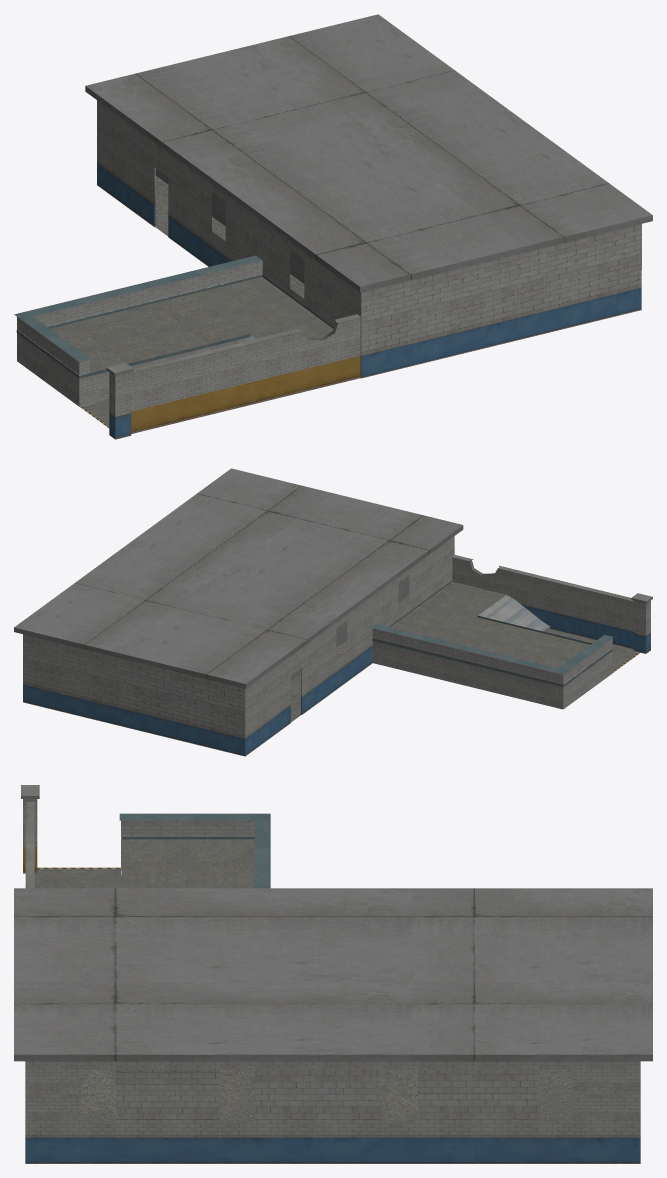
The model's file is Building_Fdc04_2048_lod2.glb.
3 renders of one model, top to bottom at view 1: azimuth 30°, elevation 25°; view 2: azimuth 150°, elevation 25°; view 3: azimuth 270°, elevation 25°, orthographic. The views are drawn at different scales.
Parts seen in each view (by area): view 1: xiutz_fdc_04_lod2; view 2: xiutz_fdc_04_lod2; view 3: xiutz_fdc_04_lod2.
Part boxes in pixels (x1=…): xiutz_fdc_04_lod2: x1=14, y1=14, x2=652, y2=439; xiutz_fdc_04_lod2: x1=14, y1=468, x2=652, y2=756; xiutz_fdc_04_lod2: x1=14, y1=785, x2=652, y2=1163.
Size of the model in its own units: 31.29 by 5.42 by 27.8.
1 material, 1 textured.
